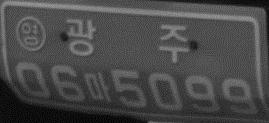0: (147, 71, 183, 112), (15, 61, 51, 99)
5: (111, 69, 147, 109)
6: (51, 64, 84, 103)
9: (221, 76, 257, 115), (184, 75, 219, 113)
광주_D: (64, 17, 189, 63)
마: (85, 70, 111, 105)
영: (14, 16, 47, 53)
